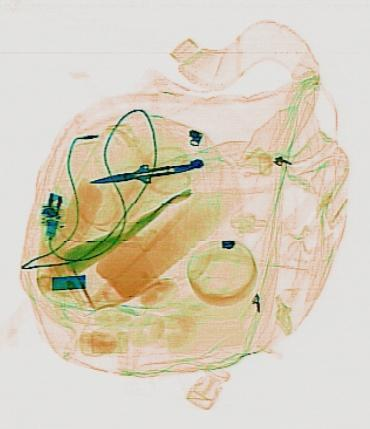Knife: (86, 156, 191, 192)
